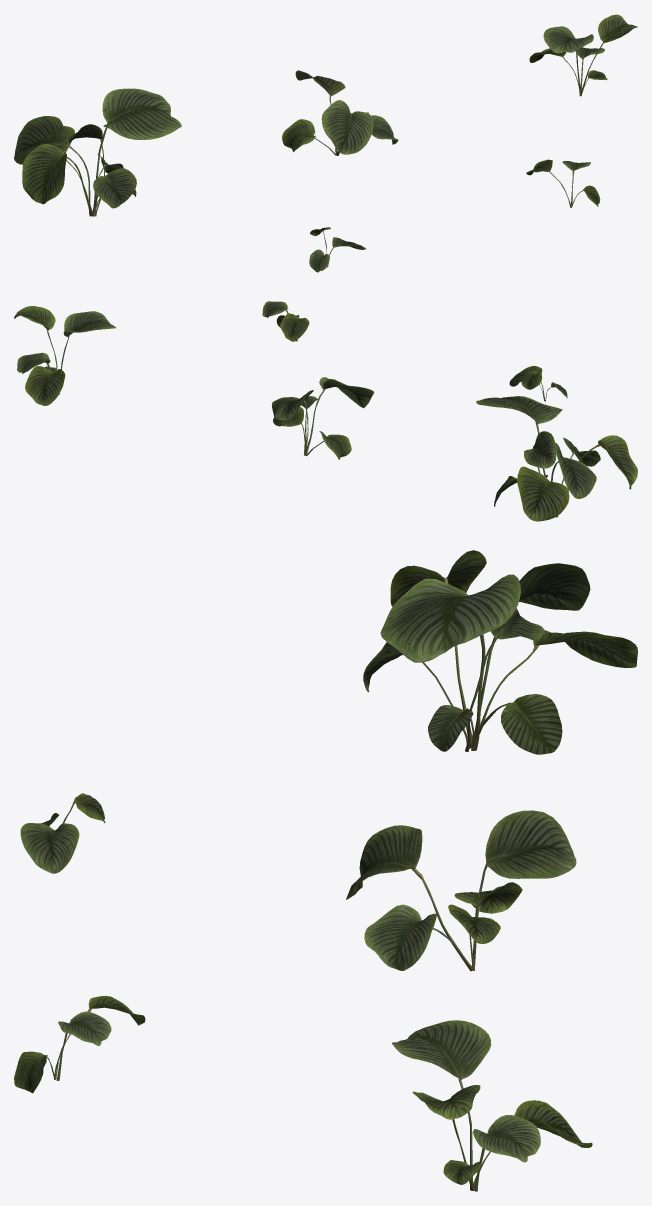
Rendered from calathea_orbifolia_01.glb.
3 views of the same model, one above another, from view 1: azimuth 30°, elevation 25°; view 2: azimuth 150°, elevation 25°; view 3: azimuth 270°, elevation 25° (orthographic). The views are drawn at different scales.
Visible parts, largest first — view 1: calathea_orbifolia_01_a; view 2: calathea_orbifolia_01_a; view 3: calathea_orbifolia_01_a.
Part boxes in pixels (box(x1,y1,x2,y2)): calathea_orbifolia_01_a: box(14, 14, 637, 272); calathea_orbifolia_01_a: box(14, 301, 637, 521); calathea_orbifolia_01_a: box(14, 550, 637, 1191).
Size of the model in its own units: 2.49 by 0.4243 by 1.19.
Materials: 1 (1 with a texture image).
